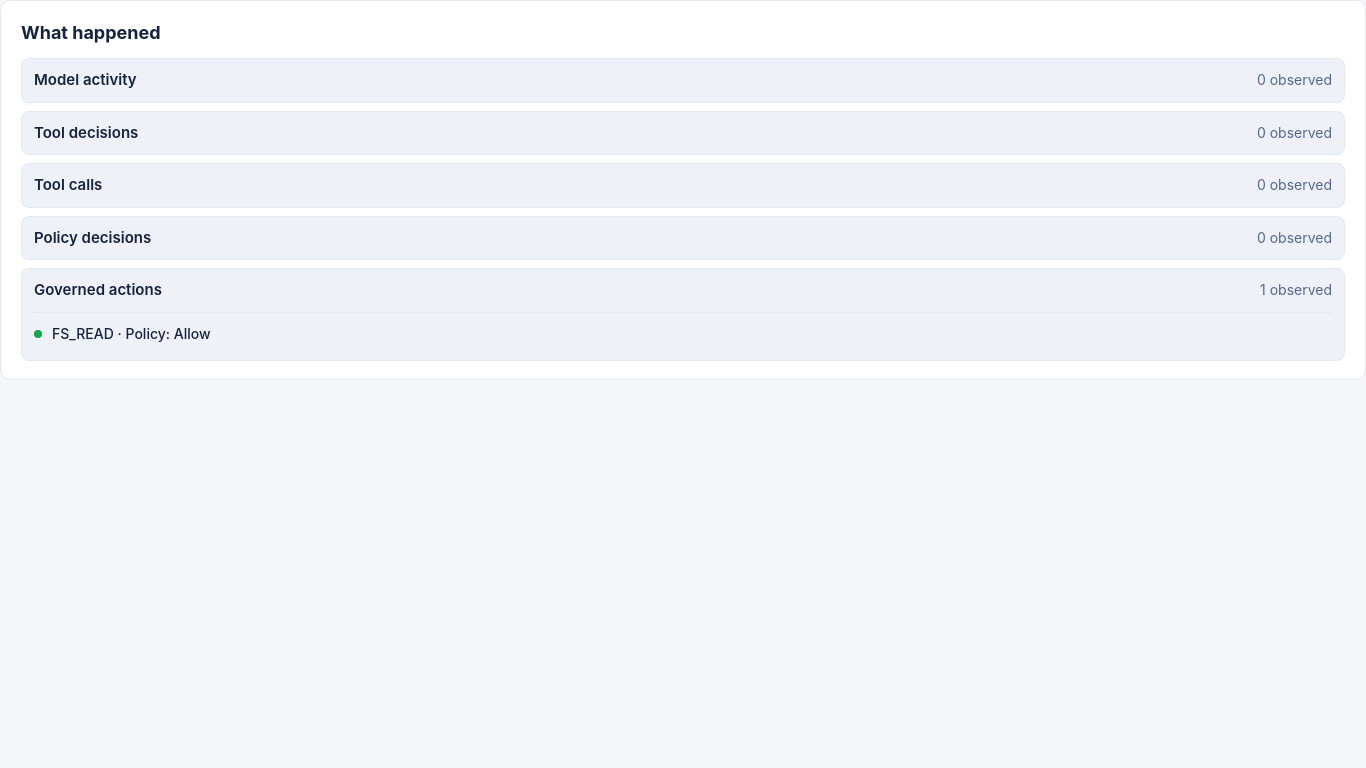
Test case: AssignmentActivitySummary › renders expandable governed action records
// Expand and check for fields
Click the heading "FS_READ · Policy: Allow" at {"x": 131, "y": 333}, box x1=52 y1=324 x2=211 y2=342
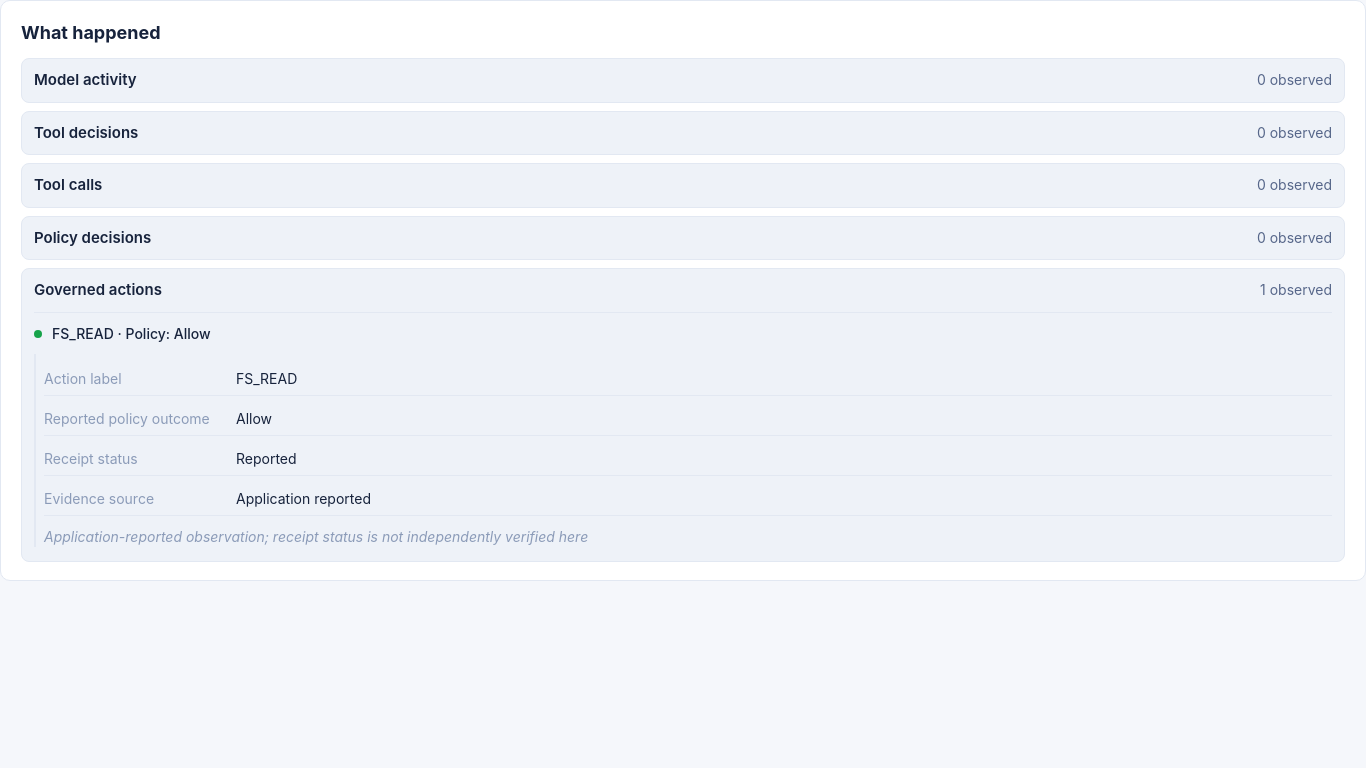
Result: the text "Action label" is shown at x1=44 y1=370 x2=122 y2=386
Result: the text "Reported policy outcome" is shown at x1=44 y1=408 x2=224 y2=428
Result: the text "Receipt status" is shown at x1=44 y1=450 x2=138 y2=466
